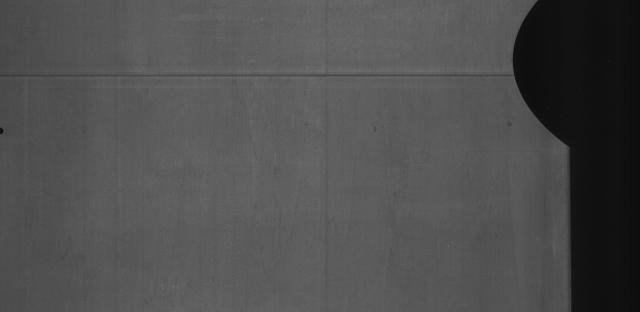welding_line: (0, 64, 534, 89)
